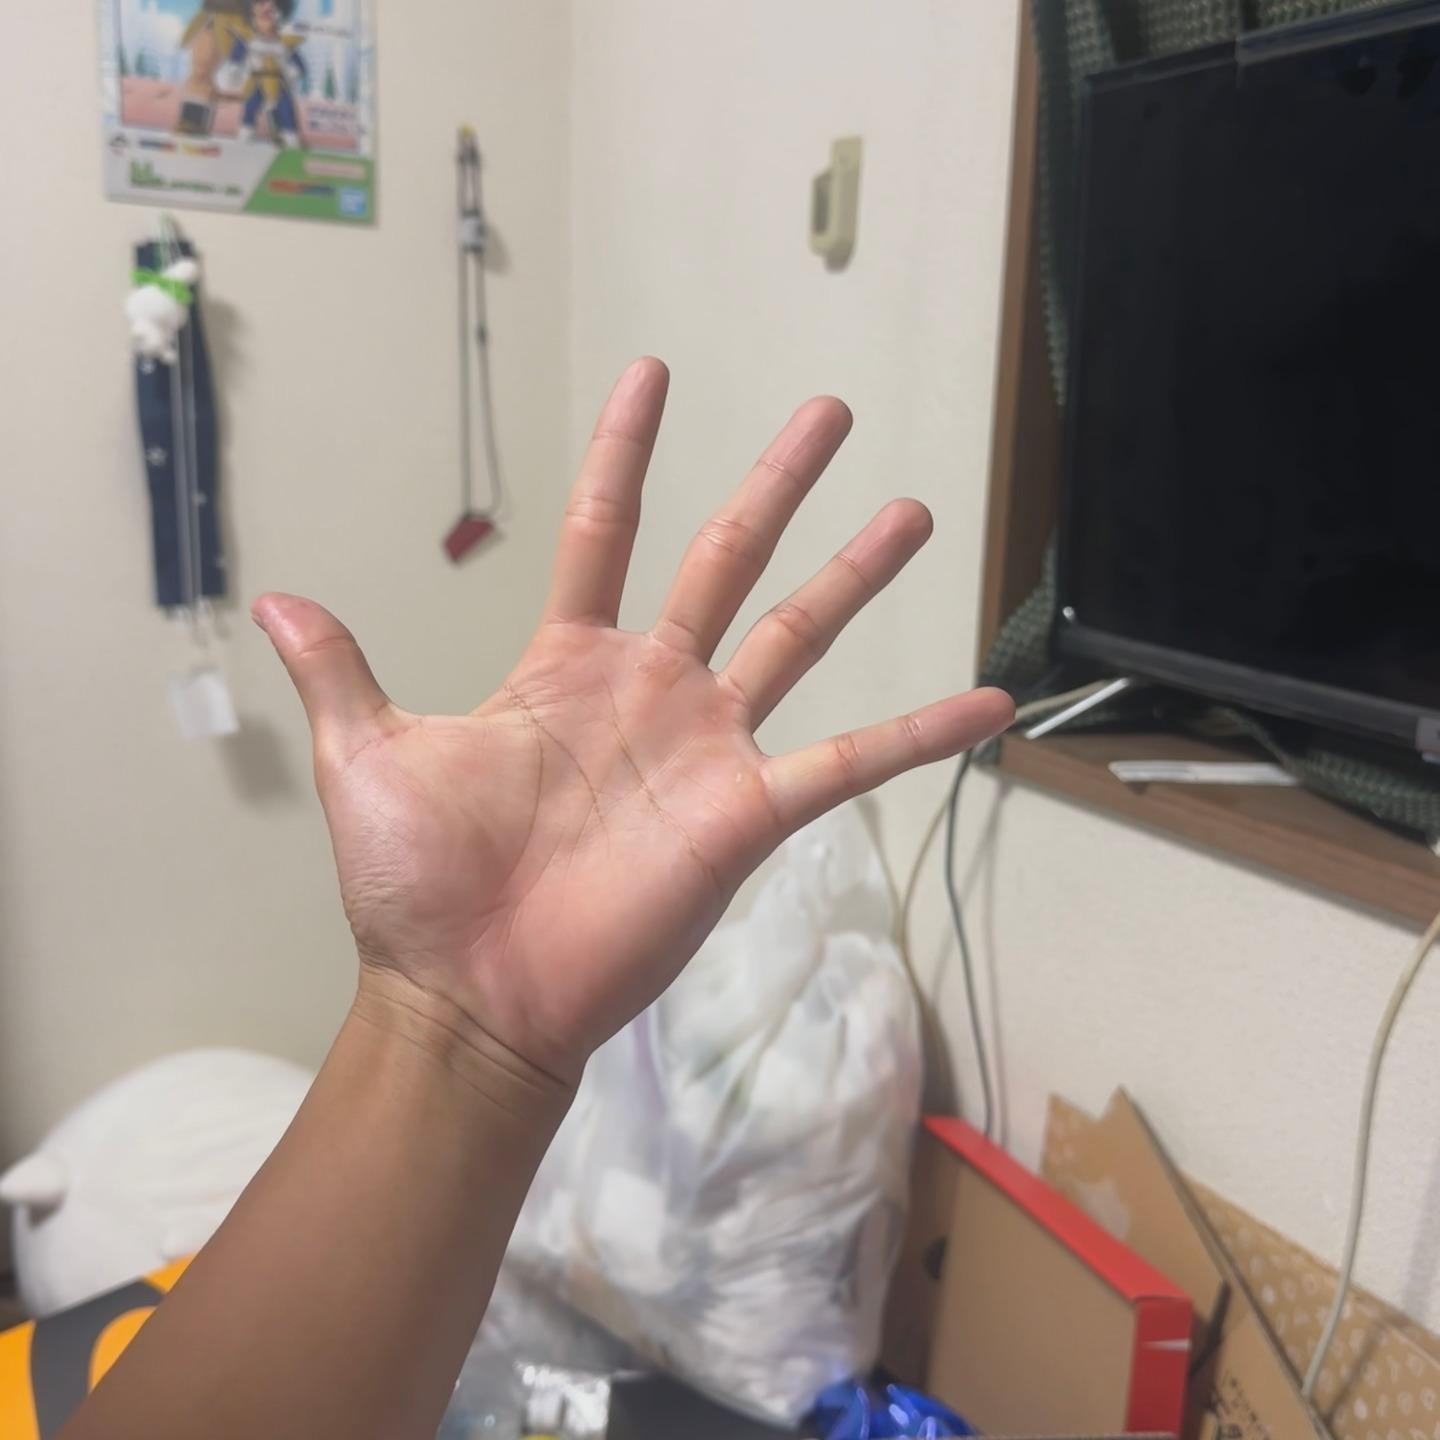without_gloves: (70, 220, 1069, 1193)
